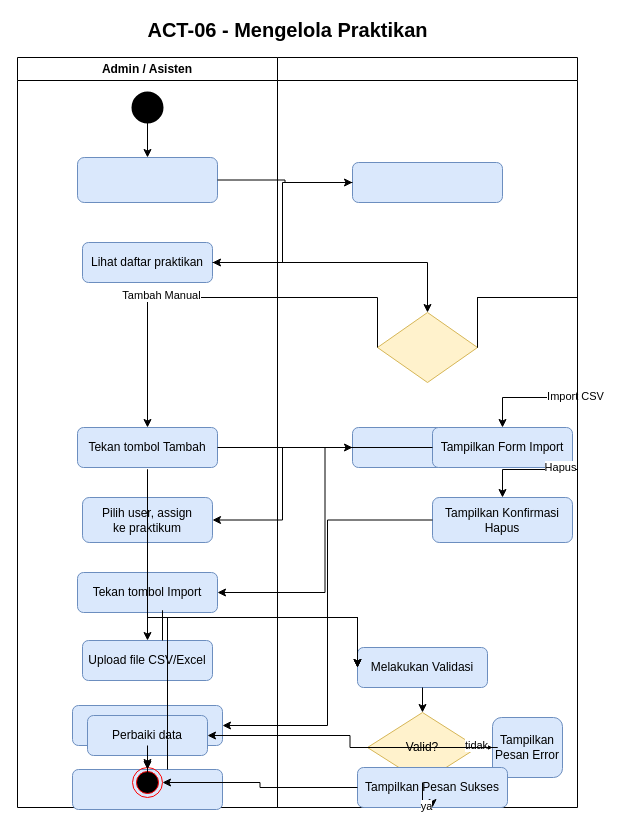
Image size: 621x833. Some labels were removed from this diagram. The box of each missing label's shape, as (x1, y1, x2, y2) in pixels:
Aksi?: (376, 312, 478, 382)
Buka detail praktikum, tab Praktikan: (76, 156, 218, 202)
Konfirmasi penghapusan: (72, 768, 222, 810)
Pilih praktikan, klik Hapus: (72, 704, 222, 746)
System: (276, 56, 578, 808)
Tampilkan daftar praktikan: (352, 162, 502, 202)
Tampilkan Form Tambah: (352, 426, 502, 468)
